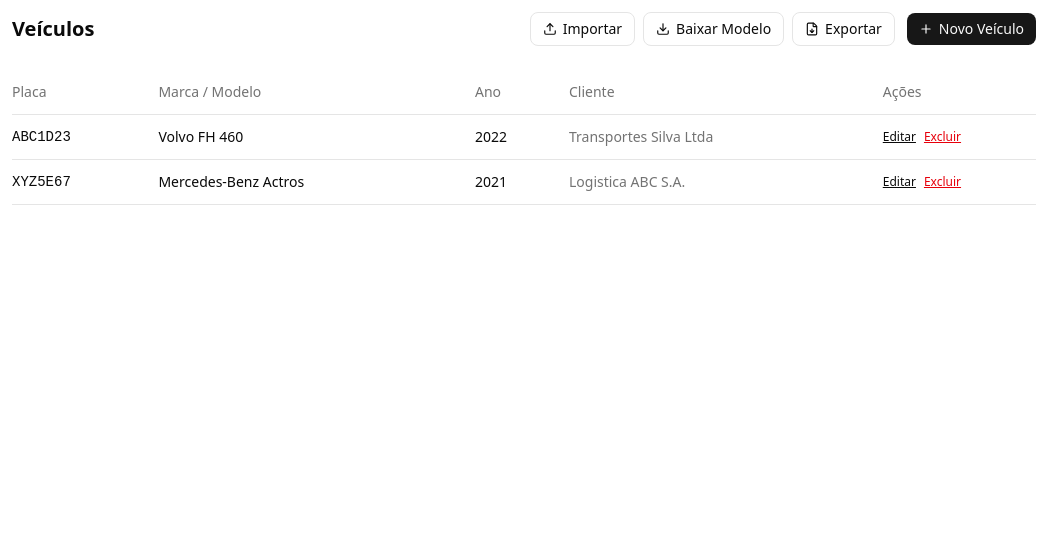
VehiclesPage › botão "+ Novo Veículo" abre o formulário
Click the button "Novo Veículo": click(971, 29) [907, 13, 1036, 45]
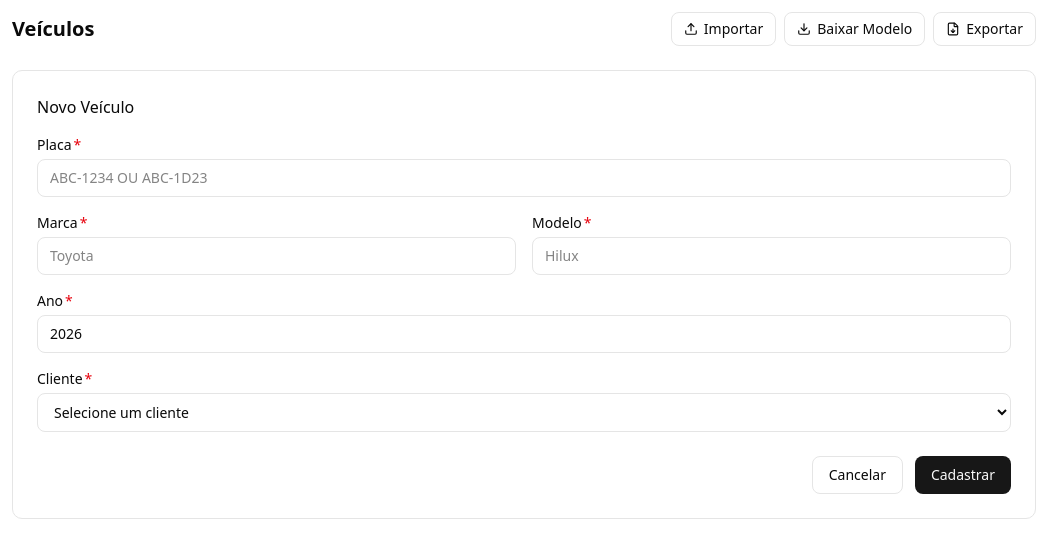
Check: the button "Cadastrar" is shown, box [915, 456, 1011, 494]
